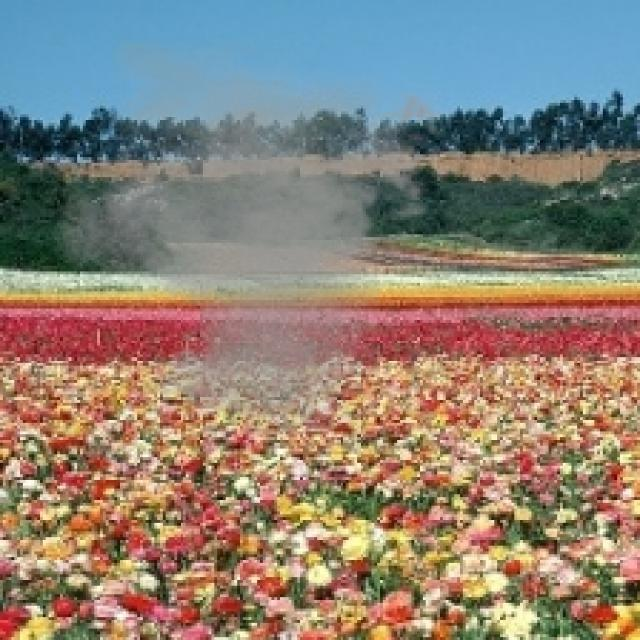Smoke: (39, 39, 454, 434)
